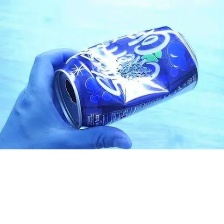can: (47, 24, 210, 128)
